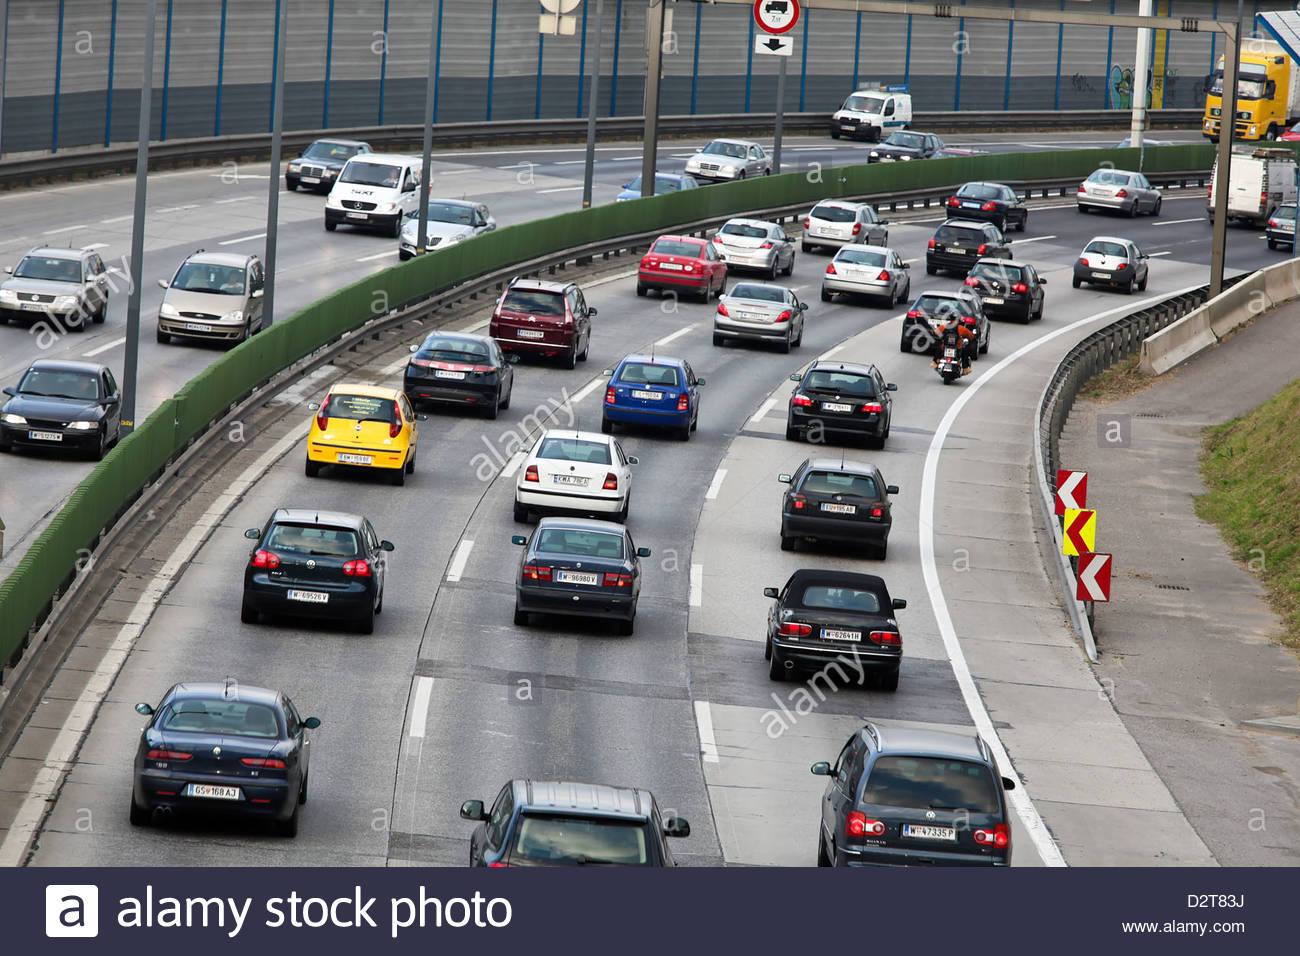car: (129, 683, 319, 839), (242, 506, 395, 637), (765, 567, 903, 695), (511, 516, 646, 636), (1, 359, 124, 460), (305, 382, 420, 484), (156, 250, 268, 350), (516, 432, 635, 525), (781, 457, 893, 552), (1, 246, 110, 332), (491, 279, 593, 368), (786, 363, 896, 443), (604, 356, 700, 439), (714, 278, 803, 342), (1073, 236, 1147, 294)
